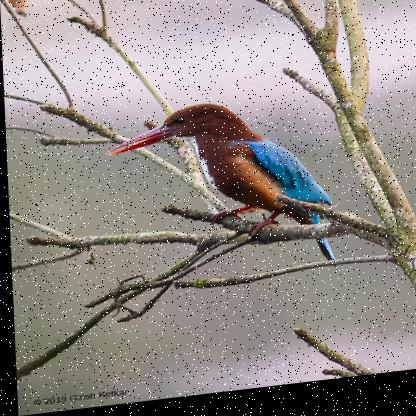Burung: (103, 97, 333, 291)
